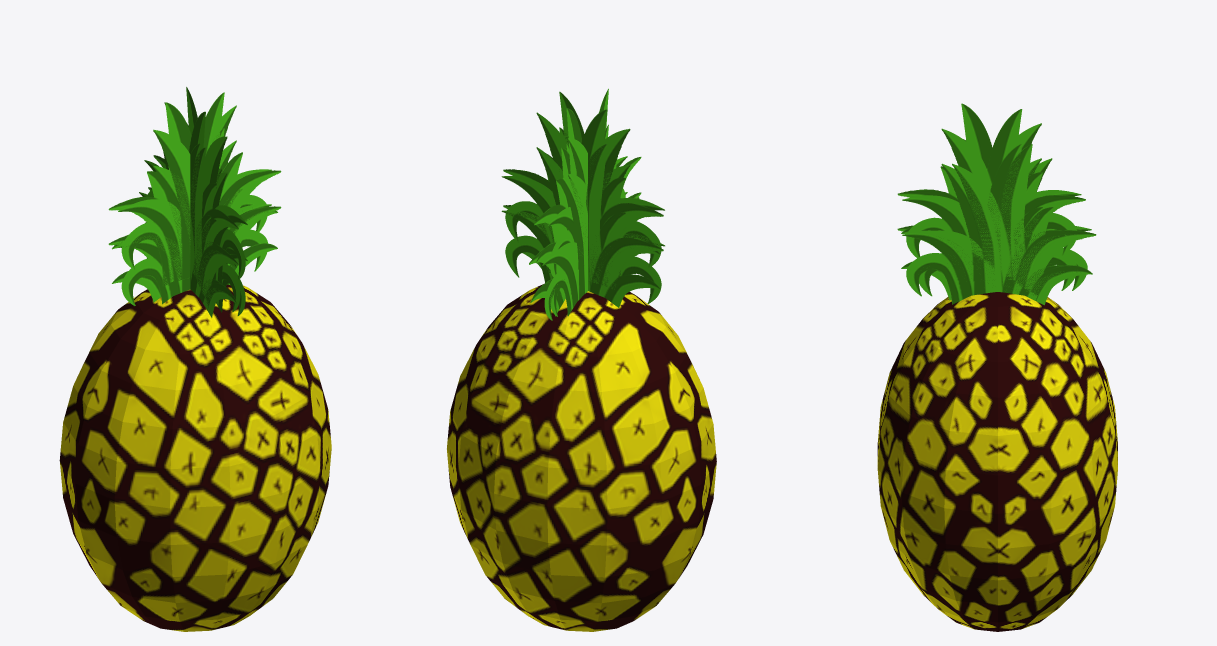
File: RePineapple 1.fbx
3 views of the same model, side by side, from view 1: azimuth 30°, elevation 25°; view 2: azimuth 150°, elevation 25°; view 3: azimuth 270°, elevation 25° (orthographic). The views are drawn at different scales.
Visible parts, largest first — view 1: TESTPineapple:NewPineapple_0, NewPineappleStem13; view 2: TESTPineapple:NewPineapple_0, NewPineappleStem13; view 3: TESTPineapple:NewPineapple_0, NewPineappleStem13.
Part boxes in pixels (x1,y1,x2,y2): TESTPineapple:NewPineapple_0: [59, 284, 331, 631]; NewPineappleStem13: [108, 87, 281, 317]; TESTPineapple:NewPineapple_0: [447, 283, 716, 631]; NewPineappleStem13: [501, 88, 664, 320]; TESTPineapple:NewPineapple_0: [877, 292, 1117, 631]; NewPineappleStem13: [897, 103, 1096, 305].
Bounding box in the file's own units: 0.5917 × 0.8405 × 0.6071.
